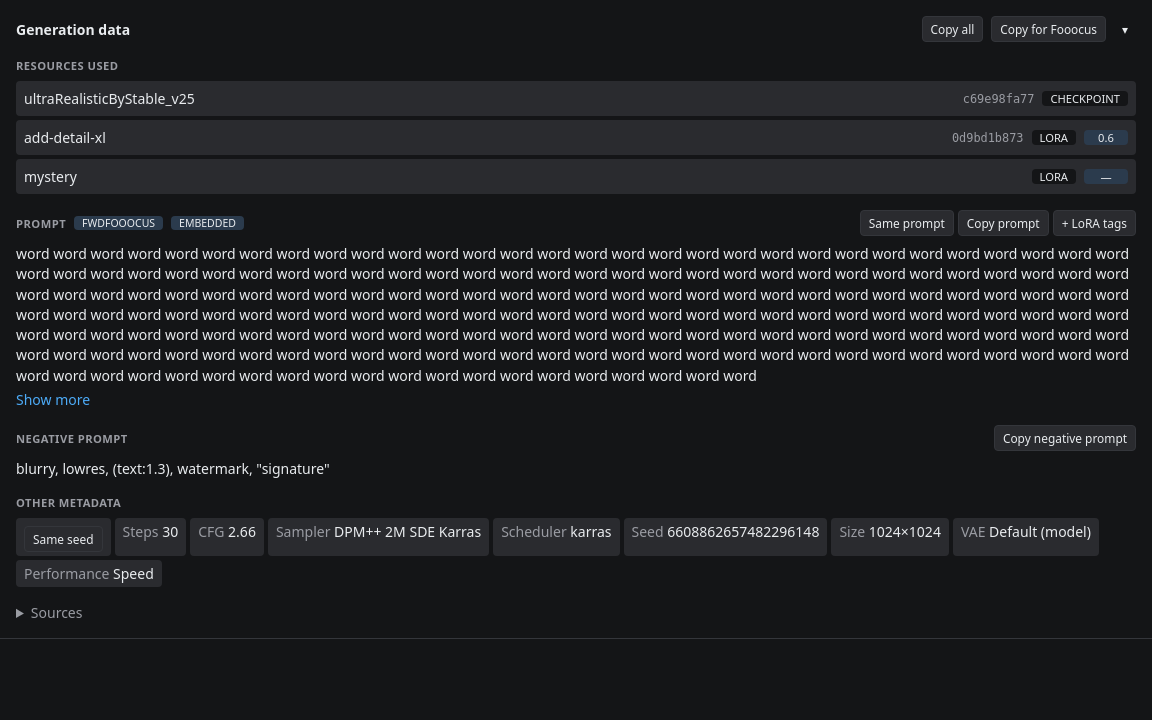
GenerationPanel › clamps a long prompt and expands it on request
Click the button "Show more" at coordinates (53, 400), box [16, 390, 90, 409]
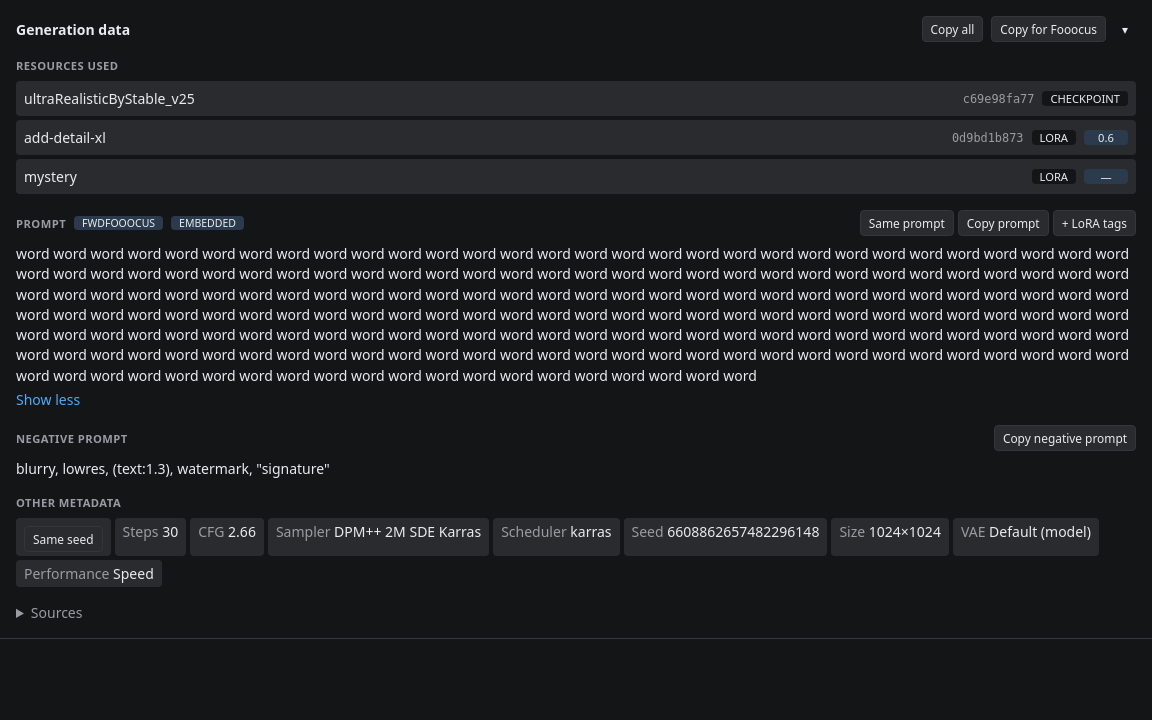
Expected: the button named "Show more" is expanded, [16, 390, 80, 409]
Expected: the button named "Show more" reads "Show less", [16, 390, 80, 409]
